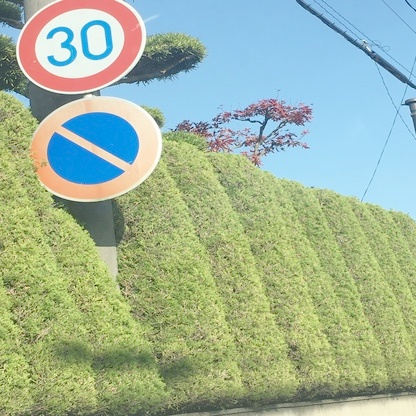Prohibition_sign: (27, 95, 179, 204)
Speed_sign: (14, 1, 151, 94)
